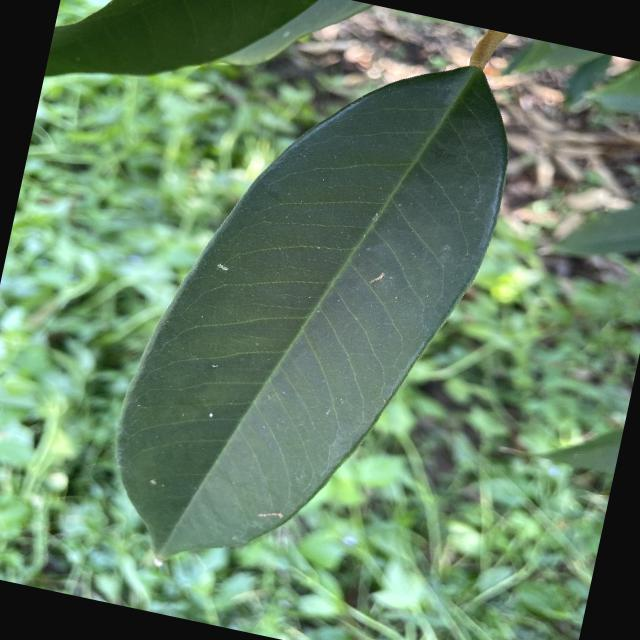No Disease: (81, 0, 540, 624)
